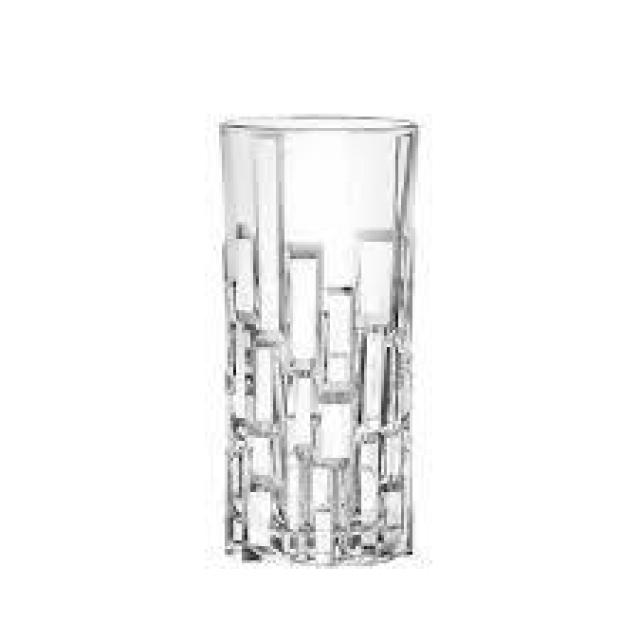non-organic waste: (213, 115, 421, 568)
